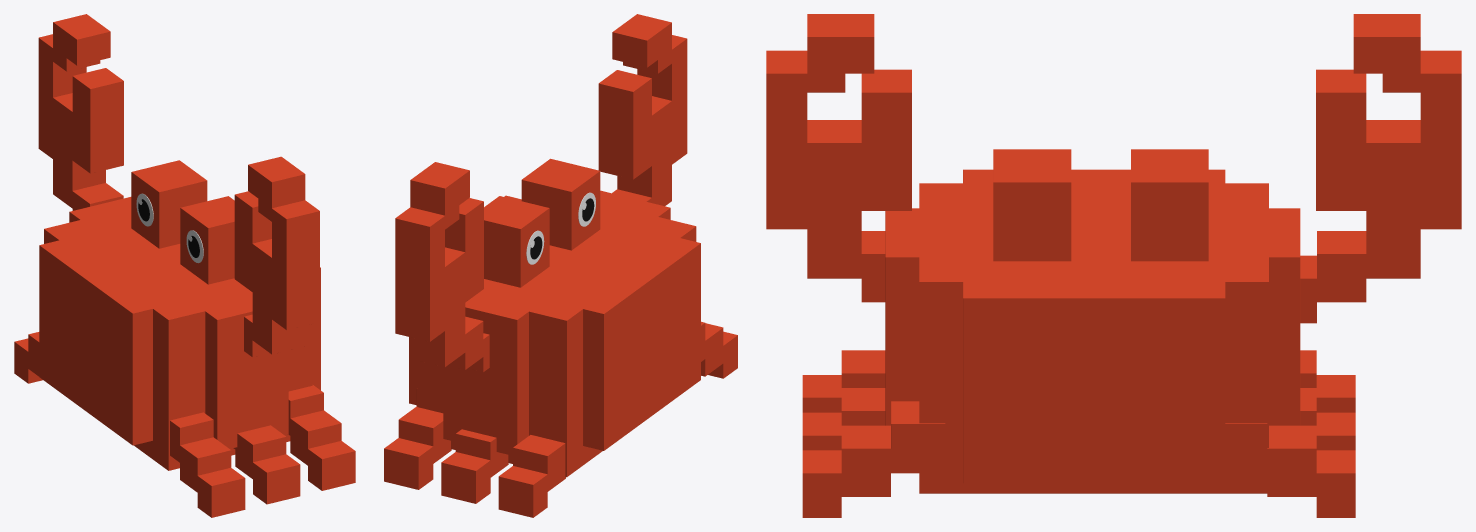
3 renders of one model, left to right at view 1: azimuth 30°, elevation 25°; view 2: azimuth 150°, elevation 25°; view 3: azimuth 270°, elevation 25°, orthographic. The views are drawn at different scales.
Parts seen in each view (by area): view 1: BipJamExport_crab; view 2: BipJamExport_crab; view 3: BipJamExport_crab.
Boxes of the visible parts, box(x1,y1,x2,y2) form: BipJamExport_crab: box(14, 14, 355, 517); BipJamExport_crab: box(384, 14, 737, 517); BipJamExport_crab: box(766, 14, 1461, 517).
Size of the model in its own units: 0.3389 by 0.5499 by 0.7739.
